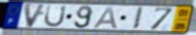7: (150, 7, 175, 32)
9: (73, 5, 95, 30)
A: (91, 6, 120, 30)
I: (131, 7, 145, 31)
U: (43, 5, 69, 29)
V: (23, 3, 48, 29)
